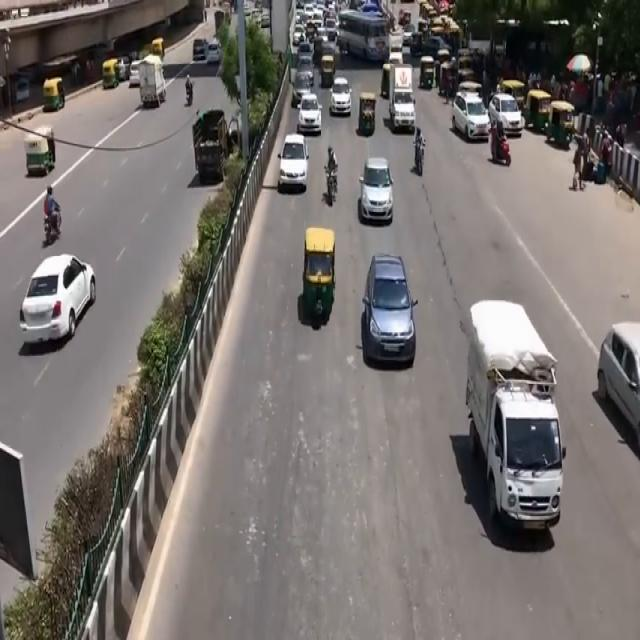BUS: (337, 8, 389, 60)
MOTORCYCLE: (416, 142, 426, 178)
TRUCK: (475, 360, 569, 542), (138, 57, 166, 109)
